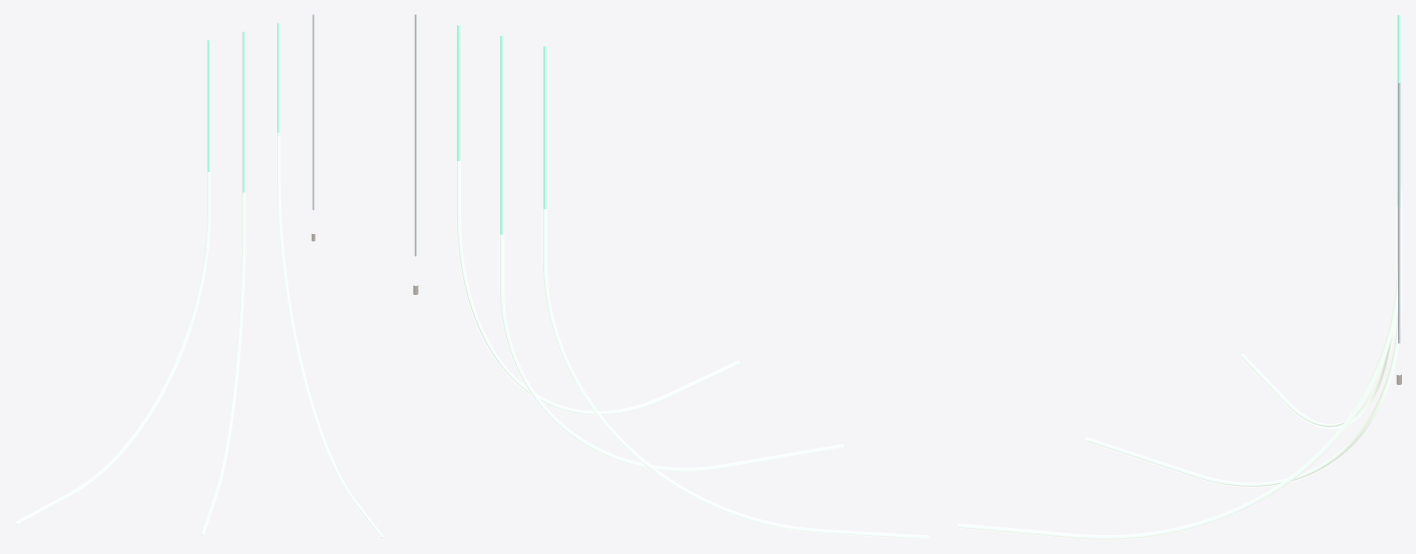
The model's file is trajectory.glb.
3 renders of one model, left to right at view 1: azimuth 30°, elevation 25°; view 2: azimuth 150°, elevation 25°; view 3: azimuth 270°, elevation 25°, orthographic. The views are drawn at different scales.
Bounding box in the file's own units: 103 × 104 × 82.76.
